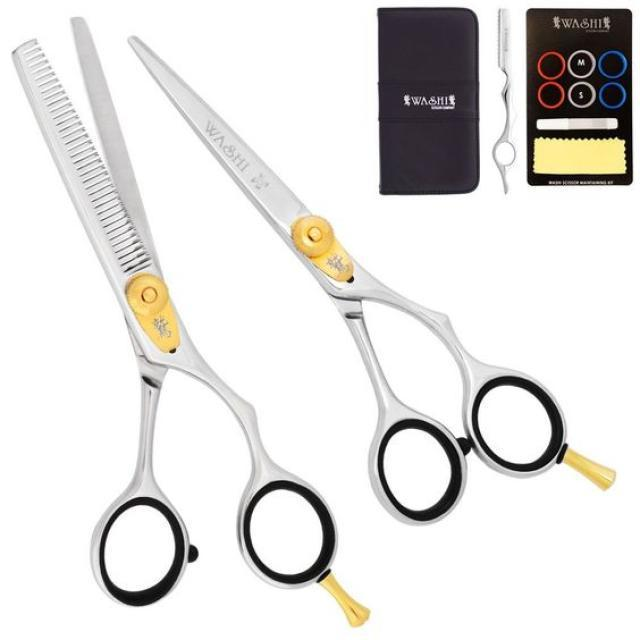scissor: (13, 12, 619, 628)
